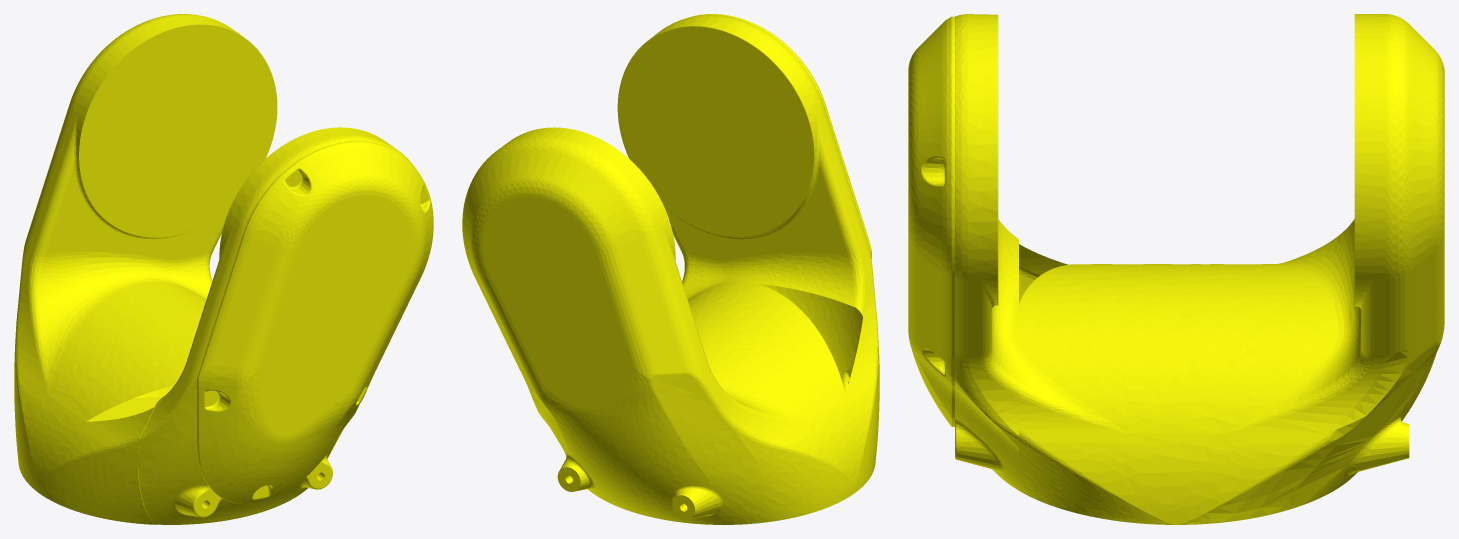
The picture shows the model from 3 angles, left to right: view 1: azimuth 30°, elevation 25°; view 2: azimuth 150°, elevation 25°; view 3: azimuth 270°, elevation 25°; orthographic projection. The views are drawn at different scales.
Visible parts, largest first — view 1: node0; view 2: node0; view 3: node0.
Boxes of the visible parts, left/top/right/bottom form: node0: left=14, top=14, right=433, bottom=524; node0: left=462, top=14, right=879, bottom=524; node0: left=908, top=14, right=1444, bottom=524.
Bounding box in the file's own units: 0.199 × 0.235 × 0.224.
